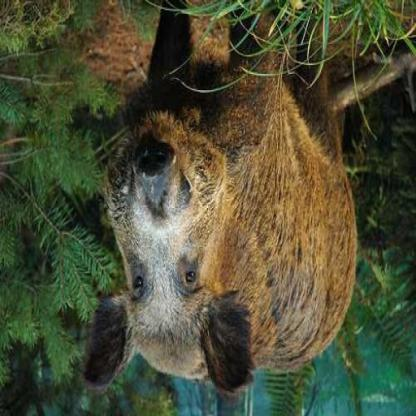boar: (53, 0, 384, 389)
